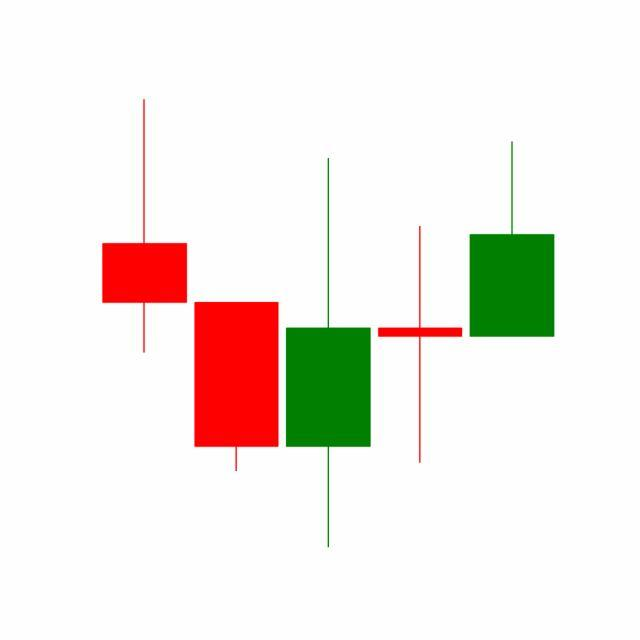Spinning Top: (374, 224, 468, 467)
